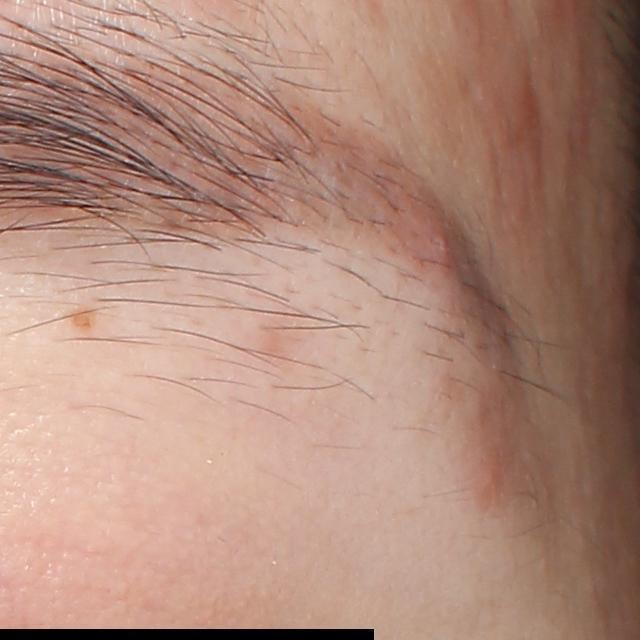nevus: (71, 300, 94, 331)
